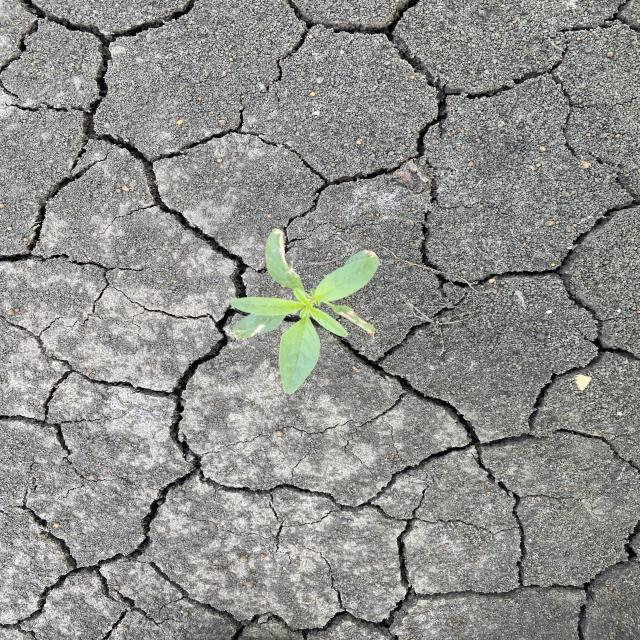Waterhemp: (226, 226, 381, 396)
